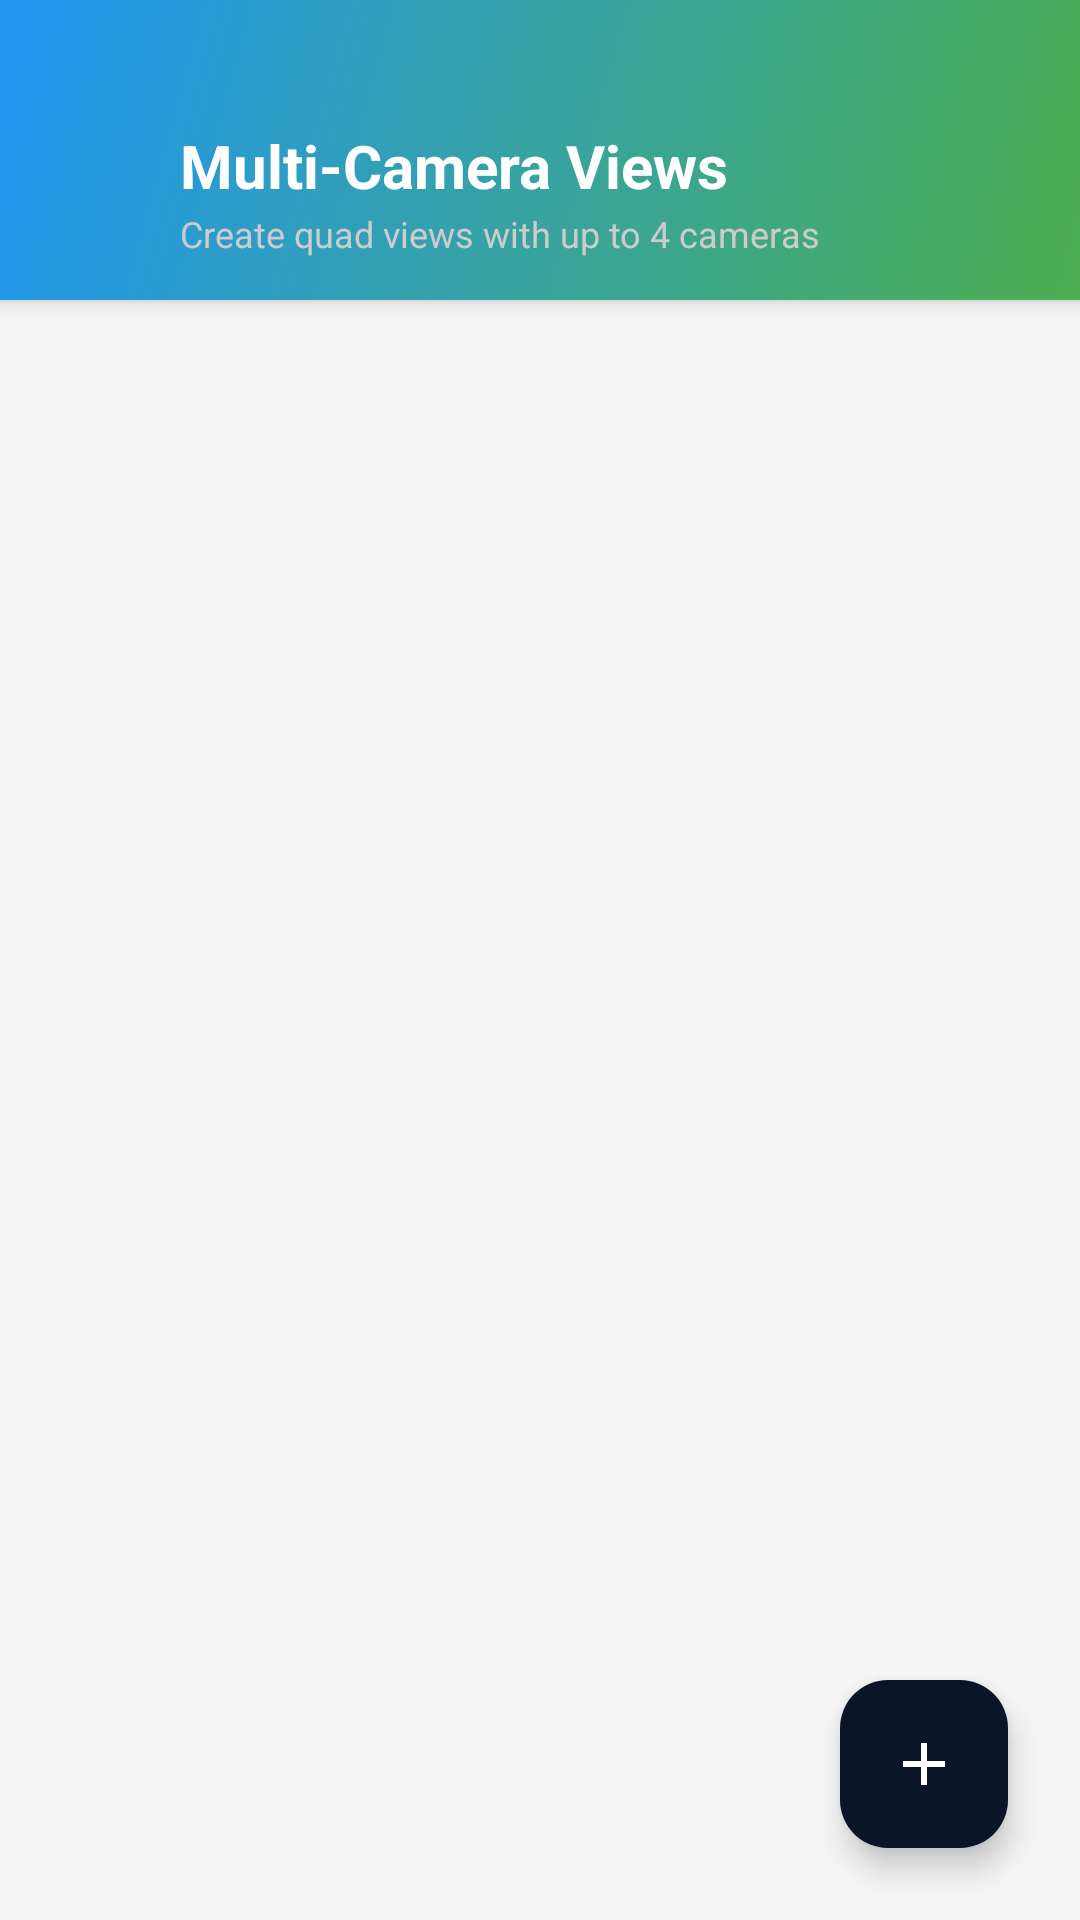

Screen size 1080*1920. Icon name, then its center in pixels as (x=x, y=y):
Create View: (x=924, y=1764)
